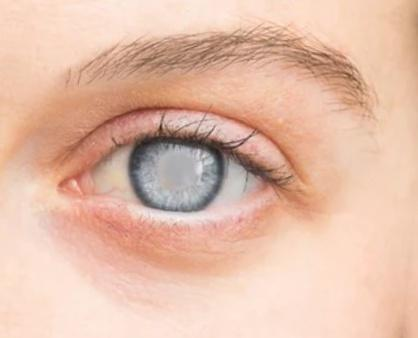eye: (130, 138, 226, 213)
